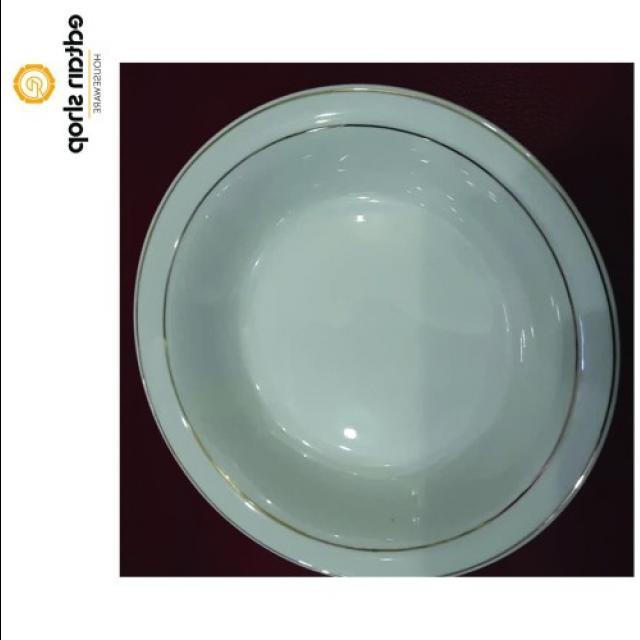plate: (124, 69, 636, 581)
